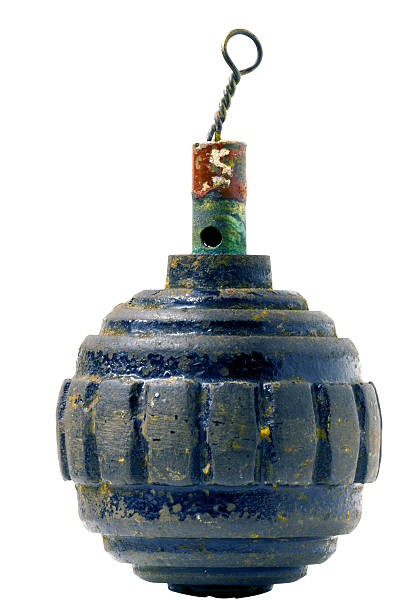e1: (62, 29, 384, 595)
